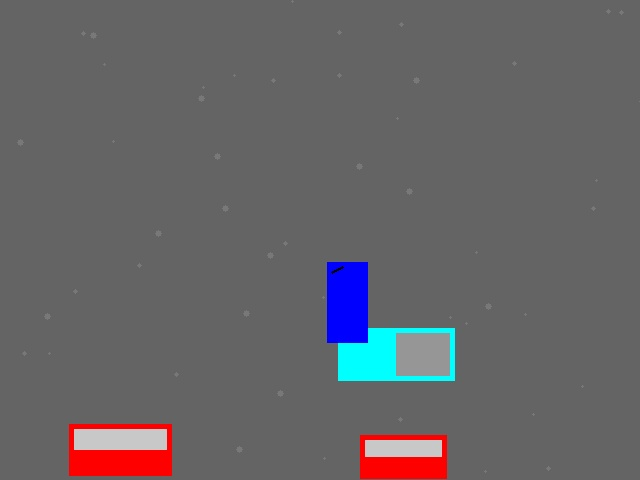car: (69, 424, 171, 475), (360, 435, 446, 478)
motorcycle: (327, 262, 367, 342)
truck: (338, 328, 454, 380)
